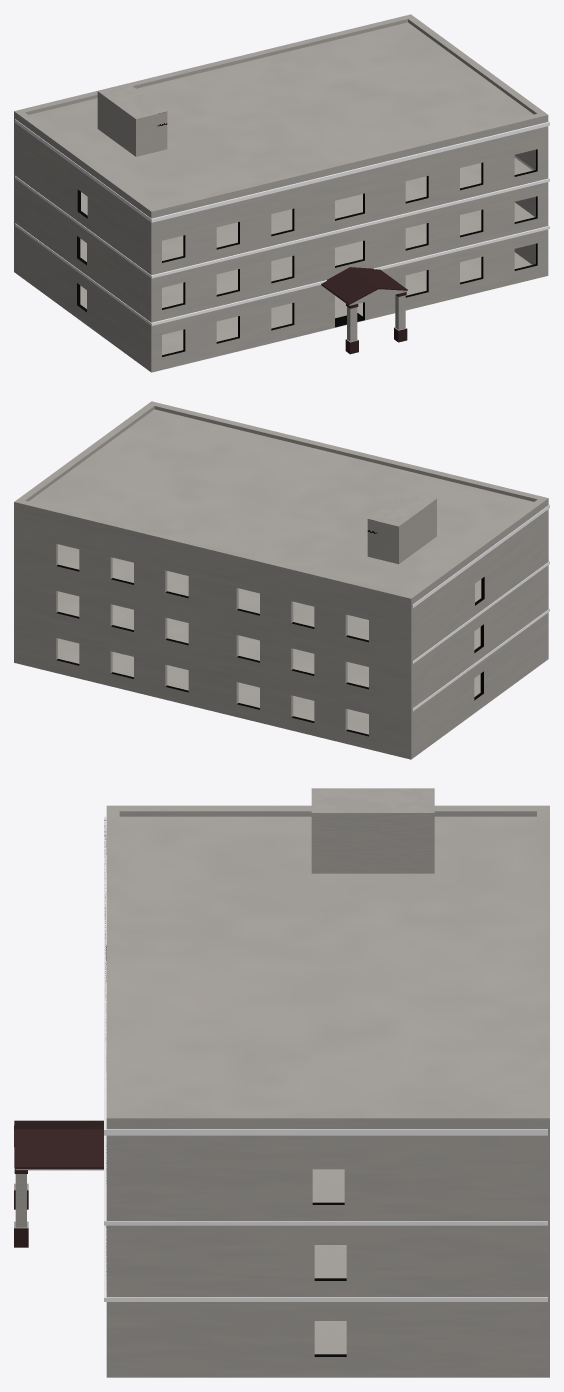
File: shell.glb
3 renders of one model, top to bottom at view 1: azimuth 30°, elevation 25°; view 2: azimuth 150°, elevation 25°; view 3: azimuth 270°, elevation 25°, orthographic. The views are drawn at different scales.
Parts seen in each view (by area): view 1: shell, SHELL.006, SHELL.004, SHELL.005; view 2: shell, SHELL.006, SHELL.005, SHELL.004; view 3: shell, SHELL.006, SHELL.004, SHELL.005.
Part boxes in pixels (box(x1,y1,x2,y2)): shell: box(14, 14, 548, 372); SHELL.006: box(15, 119, 549, 222); SHELL.004: box(15, 155, 549, 278); SHELL.005: box(15, 223, 549, 325); shell: box(14, 401, 548, 759); SHELL.006: box(412, 504, 549, 607); SHELL.005: box(412, 608, 549, 711); SHELL.004: box(412, 561, 549, 663); shell: box(14, 788, 549, 1377); SHELL.006: box(104, 816, 547, 1135); SHELL.004: box(104, 1135, 547, 1225); SHELL.005: box(104, 1225, 547, 1301).
Size of the model in its own units: 26.57 by 12.58 by 19.2.
Materials: 3 (2 with a texture image).
